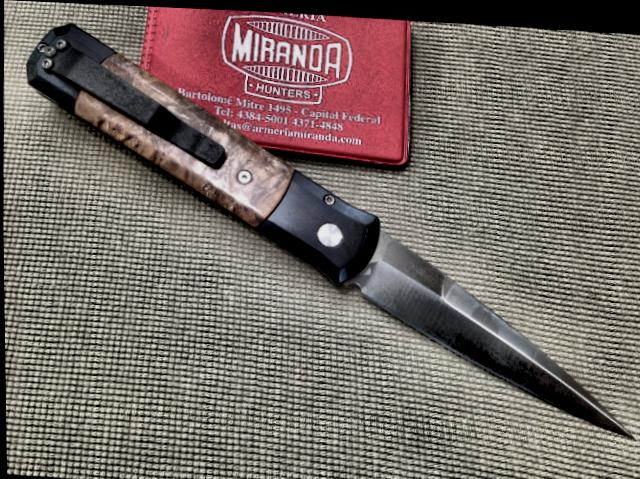knife: (309, 205, 640, 437)
